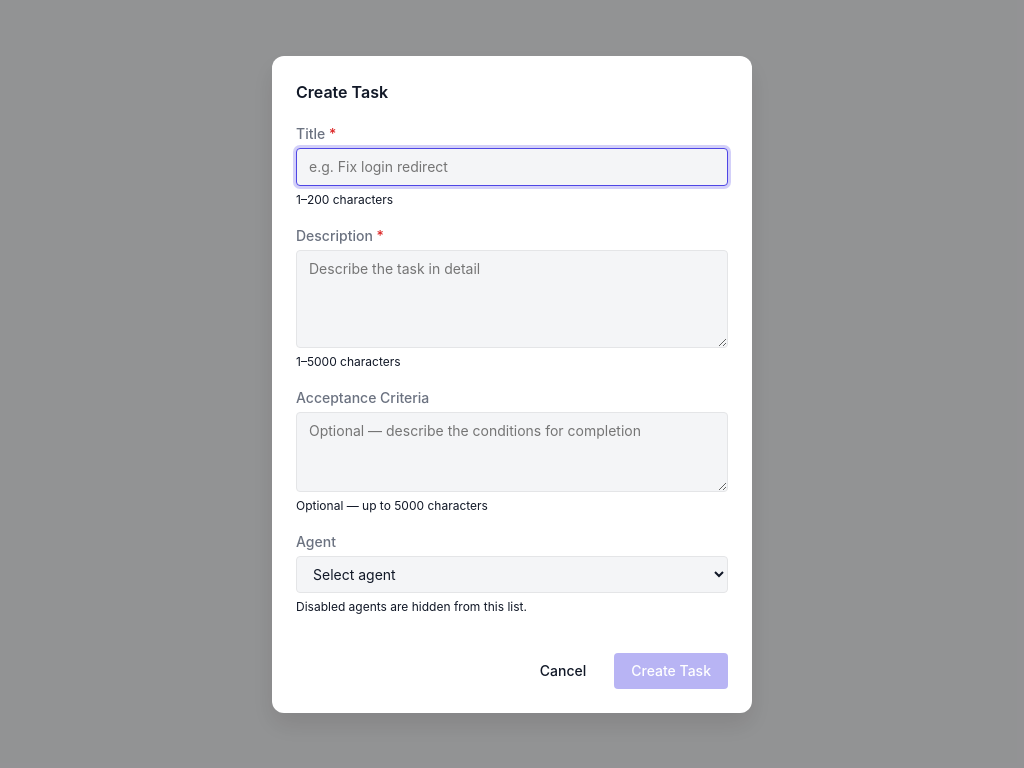
Test case: CreateTaskModal › API error invalid_task_title → inline title error
In the field labelled "Title": x=512, y=166 296,148 -> 728,186, type "Hi"
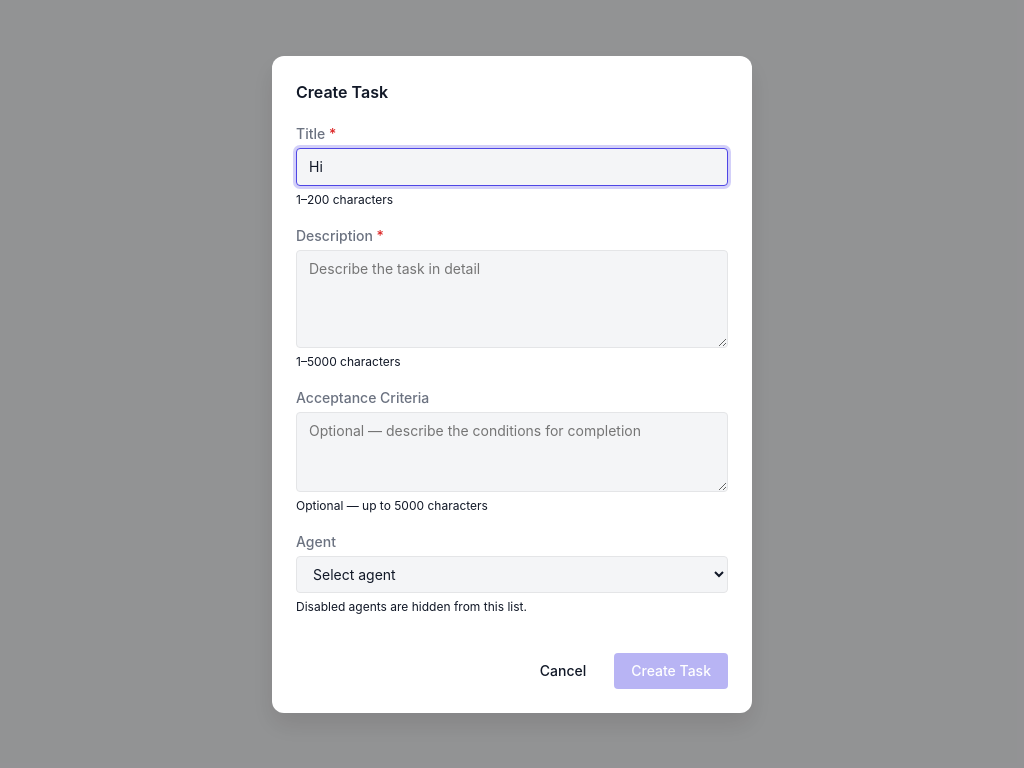
In the text box labelled "Description": x=512, y=298 296,250 -> 728,348, type "A description"
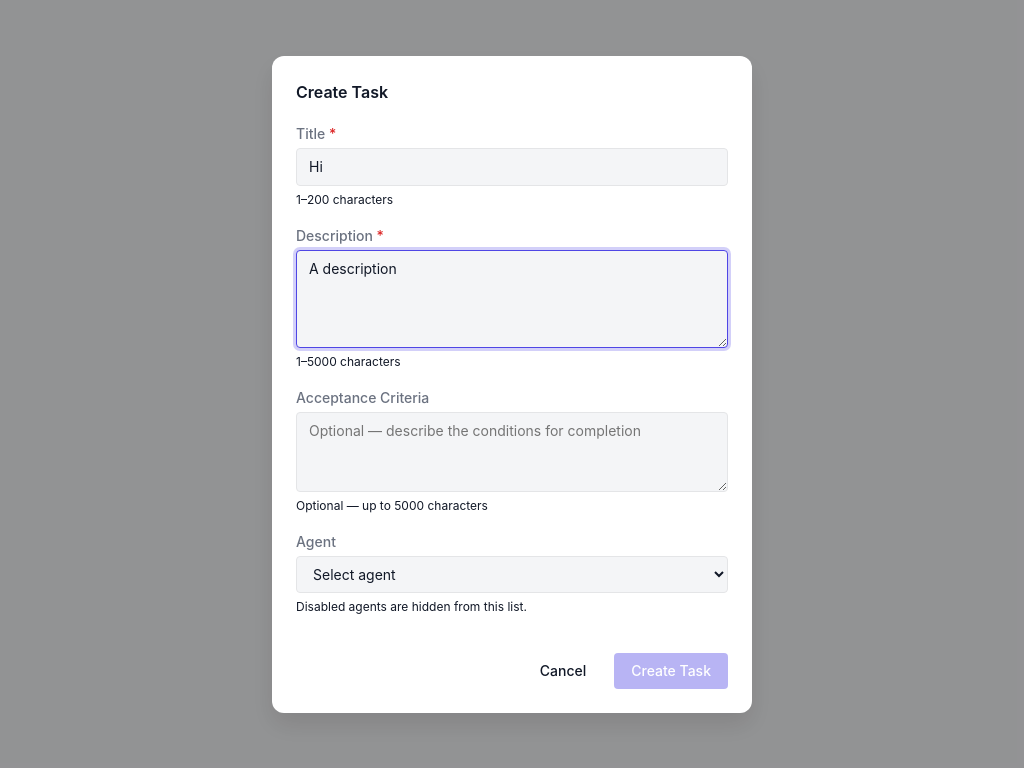
Select "claude" in the dropdown labelled "Agent": x=512, y=574 296,556 -> 728,592
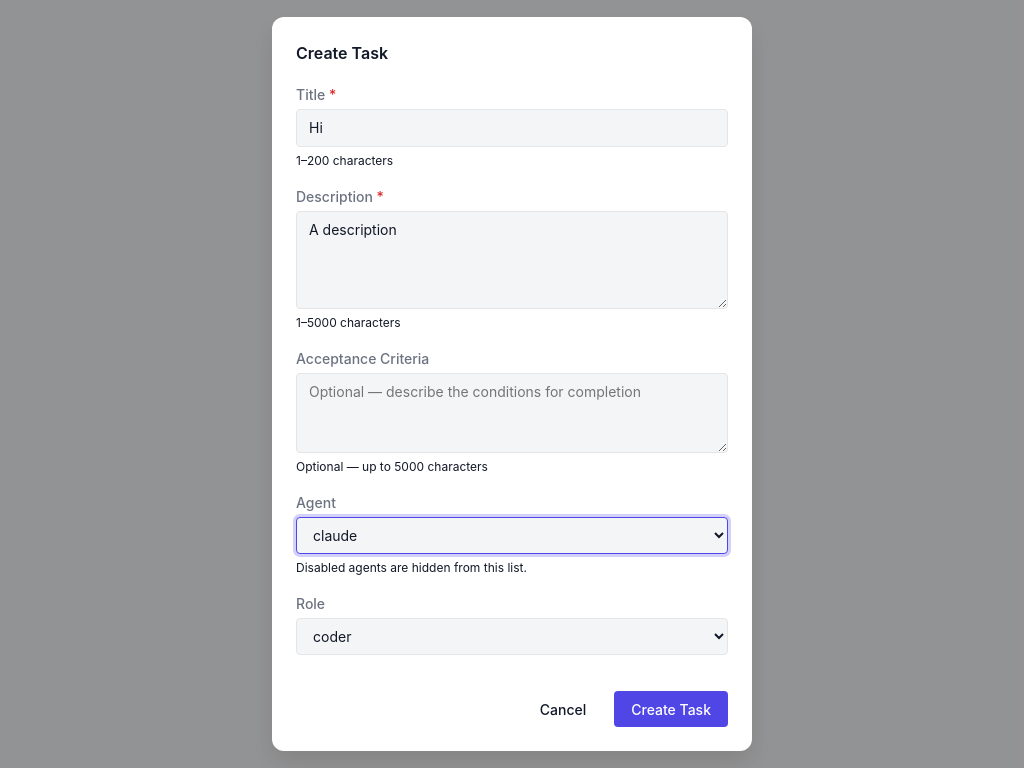
Click the button "Create Task": x=671, y=709 614,691 -> 728,727
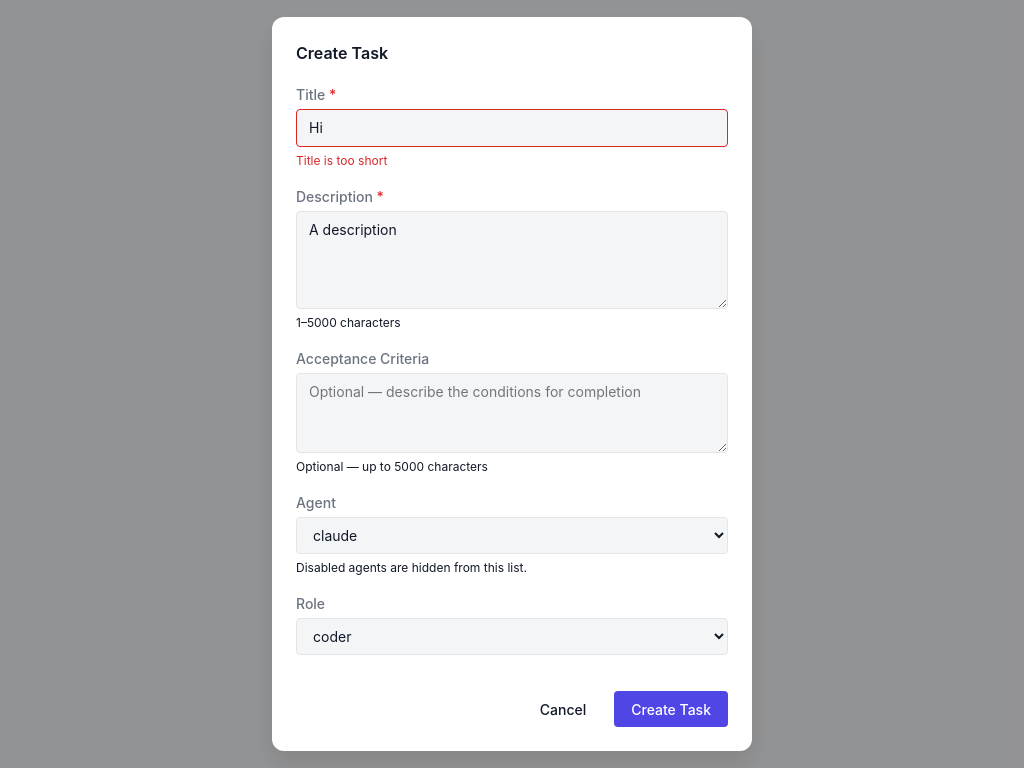
Result: the message reads "Title is too short" at 296,153 -> 387,168
